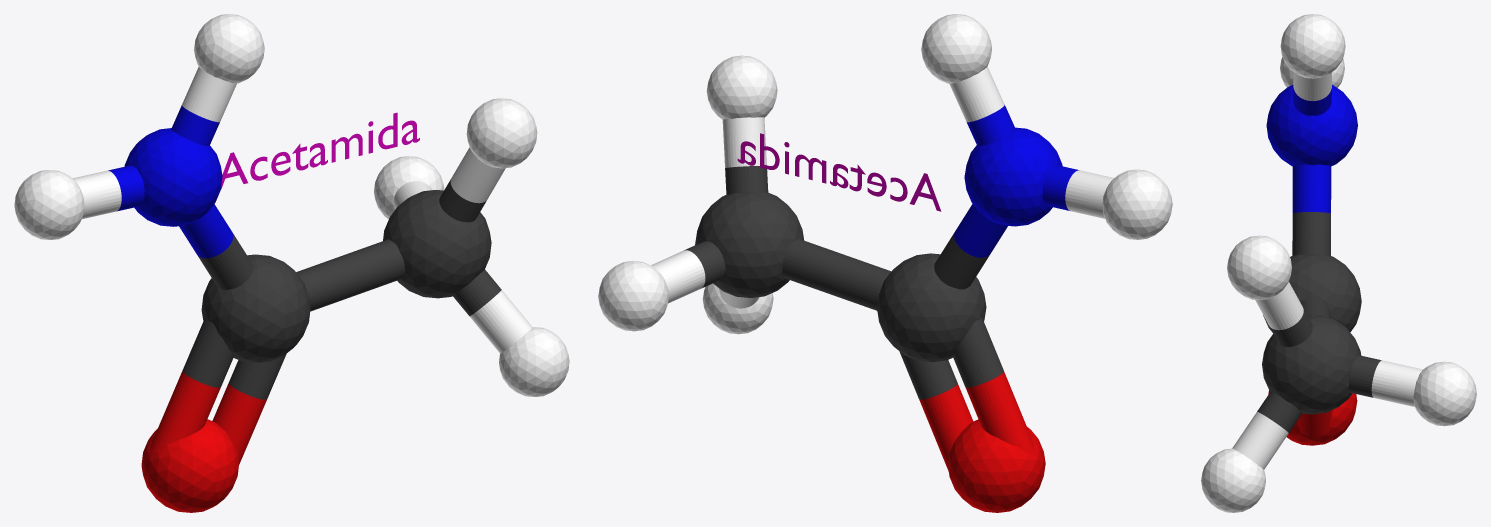
The model's file is acetamida.glb.
3 renders of one model, left to right at view 1: azimuth 30°, elevation 25°; view 2: azimuth 150°, elevation 25°; view 3: azimuth 270°, elevation 25°, orthographic. The views are drawn at different scales.
Parts seen in each view (by area): view 1: Shape_IndexedFaceSet.028, Shape_IndexedFaceSet.014, Shape_IndexedFaceSet.034, Shape_IndexedFaceSet.027, Text; view 2: Shape_IndexedFaceSet.028, Shape_IndexedFaceSet.014, Shape_IndexedFaceSet.034, Shape_IndexedFaceSet.027, Text; view 3: Shape_IndexedFaceSet.014, Shape_IndexedFaceSet.028, Shape_IndexedFaceSet.027, Shape_IndexedFaceSet.034.
Boxes of the visible parts, x1,y1,x2,y2 form: Shape_IndexedFaceSet.028: (182,179,501,399); Shape_IndexedFaceSet.014: (14,14,569,396); Shape_IndexedFaceSet.034: (141,371,266,512); Shape_IndexedFaceSet.027: (108,105,233,258); Text: (221,112,419,189); Shape_IndexedFaceSet.028: (684,166,1003,399); Shape_IndexedFaceSet.014: (598,14,1172,334); Shape_IndexedFaceSet.034: (919,371,1045,512); Shape_IndexedFaceSet.027: (954,105,1078,257); Text: (737,133,941,211); Shape_IndexedFaceSet.014: (1201,14,1476,512); Shape_IndexedFaceSet.028: (1257,212,1381,432); Shape_IndexedFaceSet.027: (1266,84,1357,213); Shape_IndexedFaceSet.034: (1268,390,1357,445).
Bounding box in the file's own units: 41.5 × 37.98 × 21.45.
